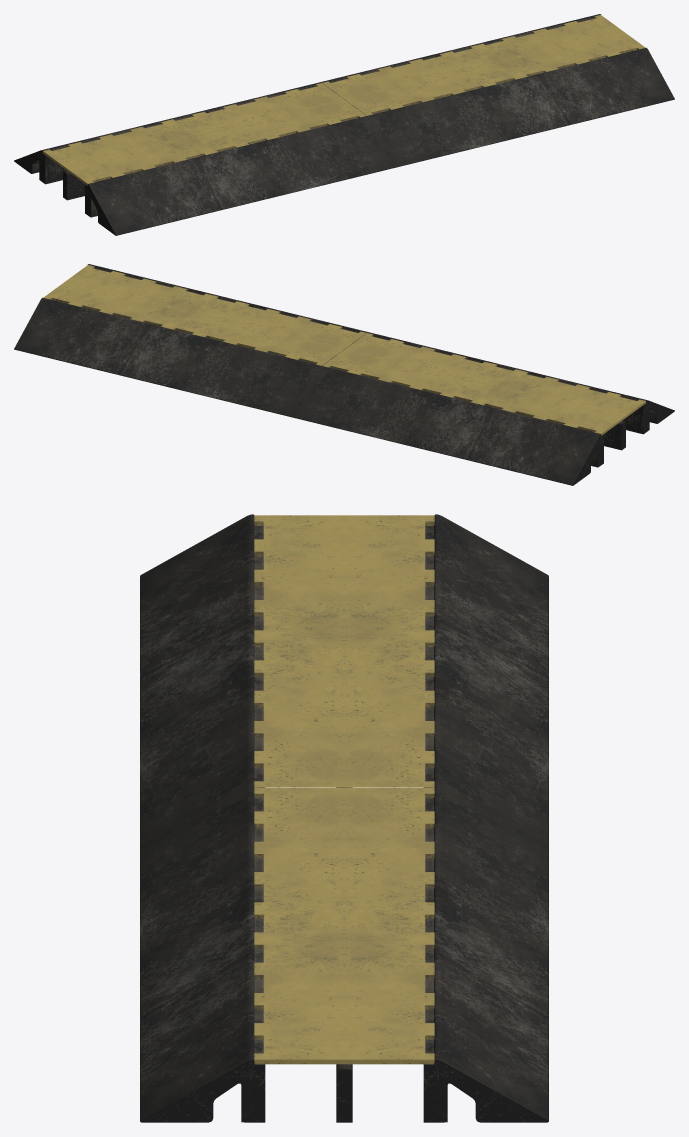
File: SM_Cable_Ramp.glb
3 views of the same model, one above another, from view 1: azimuth 30°, elevation 25°; view 2: azimuth 150°, elevation 25°; view 3: azimuth 270°, elevation 25° (orthographic). The views are drawn at different scales.
Visible parts, largest first — view 1: SM_Cable_Ramp; view 2: SM_Cable_Ramp; view 3: SM_Cable_Ramp.
Part boxes in pixels (x1,y1,x2,y2): SM_Cable_Ramp: (14, 14, 674, 235); SM_Cable_Ramp: (14, 264, 674, 485); SM_Cable_Ramp: (140, 514, 548, 1122).
Bounding box in the file's own units: 1.5 × 0.0809 × 0.475.
Materials: 1 (1 with a texture image).
